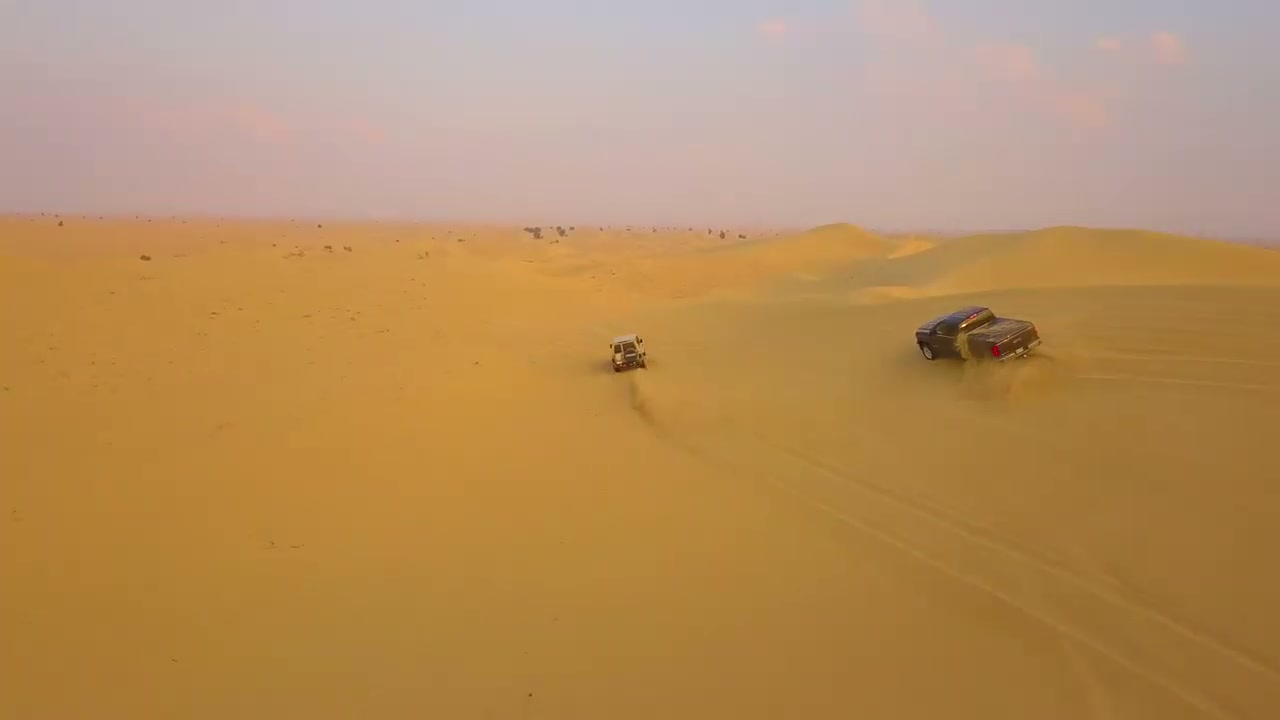vehicle_track: (659, 430, 1279, 719)
